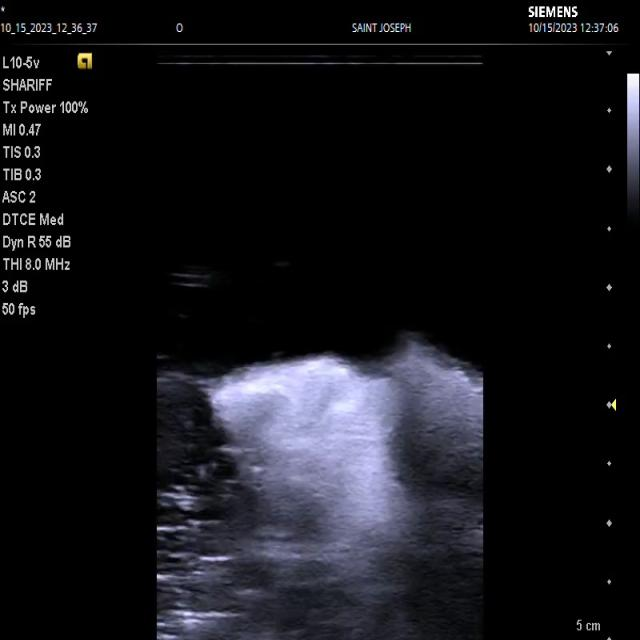tissue: (159, 336, 484, 640)
